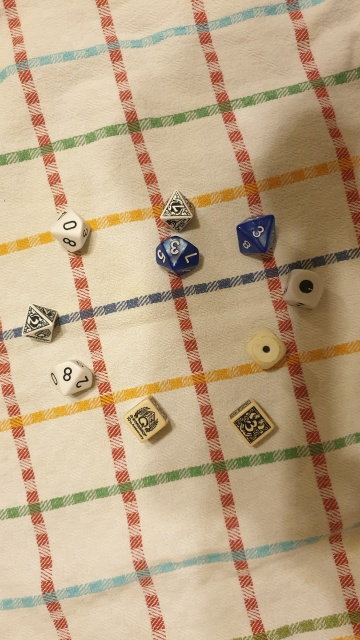d10-10: (48, 207, 94, 258)
d10-3: (234, 204, 281, 253), (152, 233, 204, 277)
d10-8: (44, 347, 97, 399)
d6-1: (282, 266, 324, 315), (241, 329, 287, 371)
d6p-3: (228, 399, 278, 452)
d6p-6: (124, 397, 177, 446)
d8p-2: (17, 303, 62, 346)
d8p-7: (157, 187, 199, 234)
